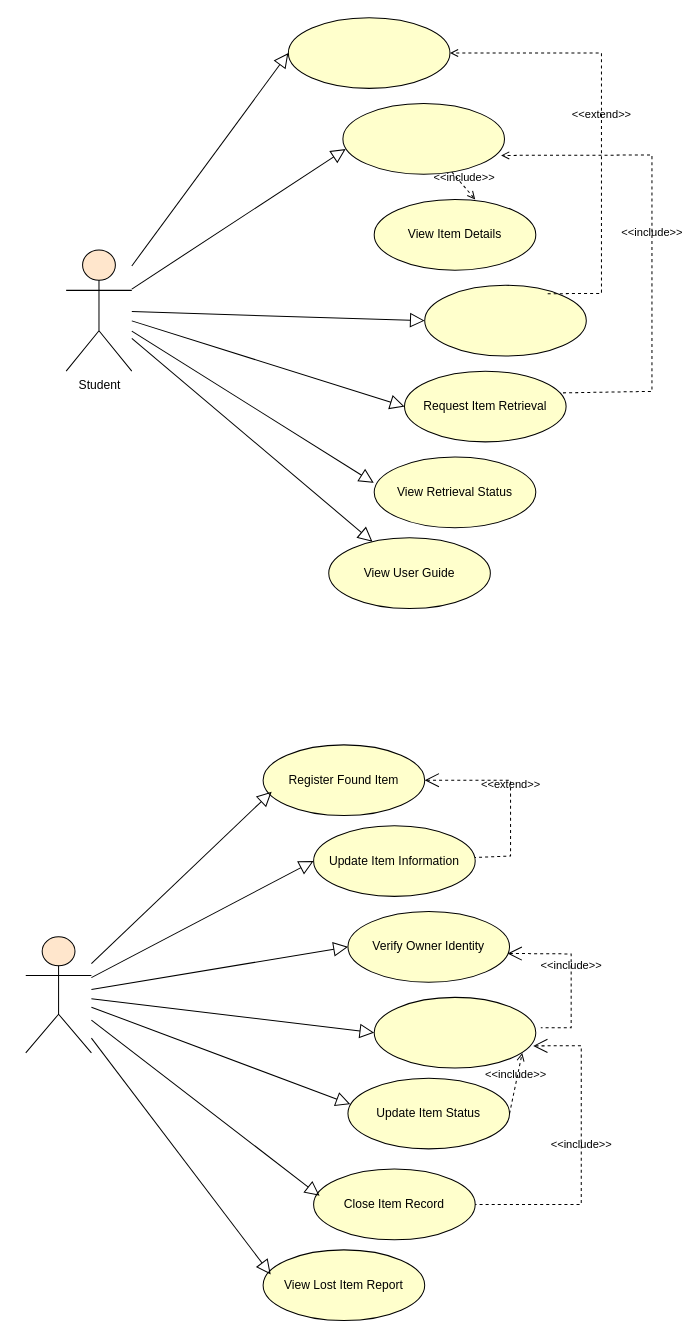
Image size: 700x1338. Some labels were removed from this diagram. Here are the shapes that lost their labels. From the top down, the centre of each, then its label:
the point at 368,52: Register Lost Item
the point at 423,138: Search Item
the point at 505,320: Receive Match Notification
the point at 58,994: Security Officer
the point at 454,1032: Deliver Item
